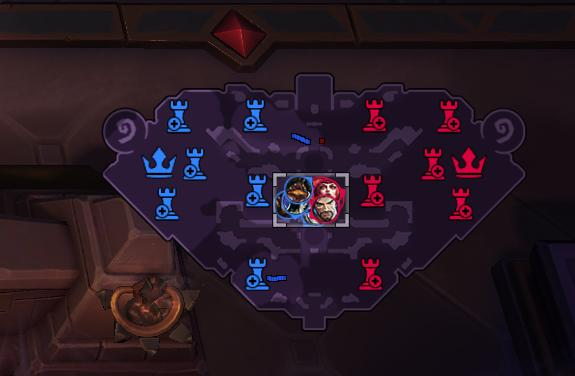blue nexus: (140, 145, 177, 177)
blue player: (273, 190, 310, 219), (283, 175, 312, 205)
blue tower: (242, 96, 268, 132), (181, 146, 208, 180), (154, 186, 180, 220), (244, 256, 270, 290), (244, 172, 269, 207), (166, 98, 191, 133)
red nexus: (451, 146, 486, 178)
red player: (309, 192, 342, 224), (311, 176, 342, 208)
red tower: (435, 98, 461, 133), (359, 172, 385, 207), (361, 97, 387, 132), (357, 256, 383, 290), (448, 186, 473, 220), (420, 146, 445, 180)
